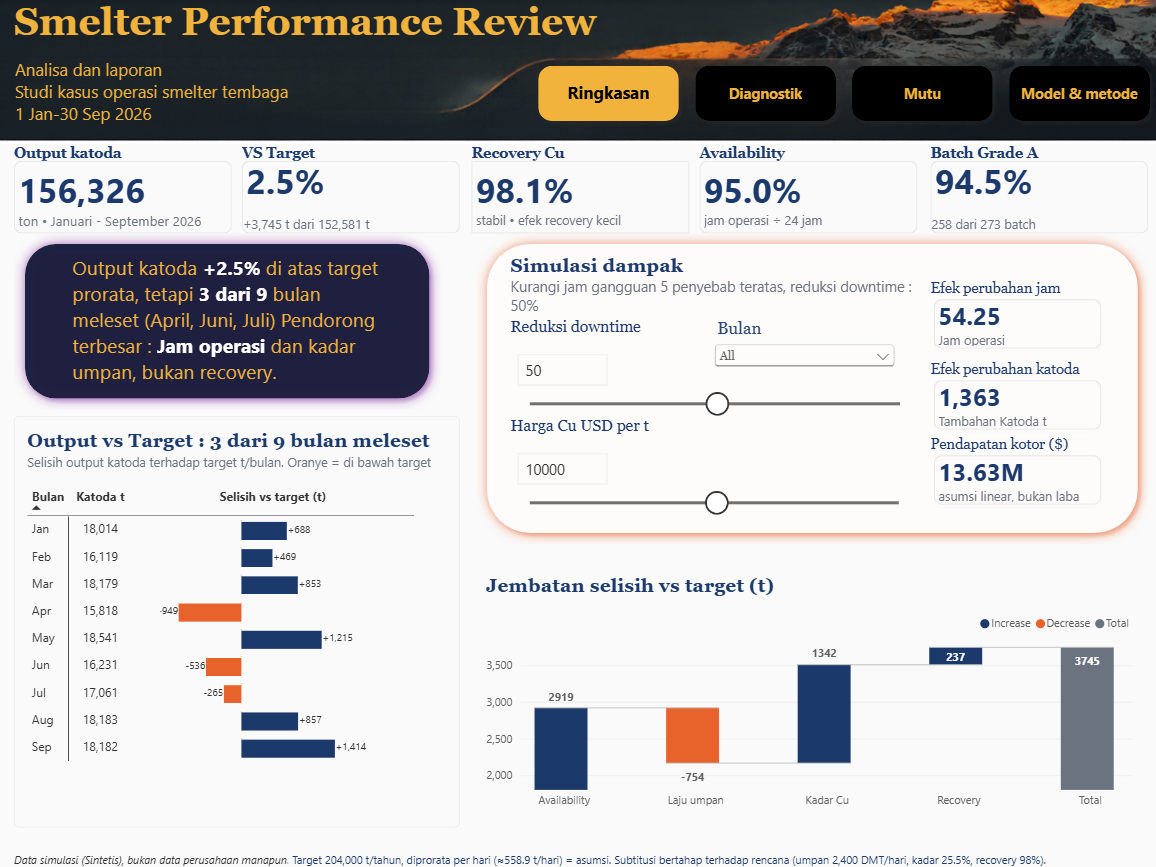

The dashboard page shown, as its layout file describes it:
{"tool":"powerbi","page":{"name":"Ringkasan","canvas":[1280,960],"ordinal":0},"visuals":[{"type":"textbox","title":"text box judul","box":[16,0,672,64],"z":0,"group":"g1"},{"type":"shape","box":[525.7,258.1,741.4,342.8],"z":0},{"type":"textbox","title":"Text box subjudul","box":[16,64,320,96],"z":1000,"group":"g1"},{"type":"slicer","title":"Reduksi downtime","fields":{"Values":["Reduksi Downtime.Reduksi Downtime"]},"box":[563.8,350.5,448,109.1],"z":1000},{"type":"cardVisual","title":"Output katoda","fields":{"Data":["Data_Harian.Katoda t"]},"box":[16,160,240,98],"z":2000},{"type":"slicer","title":"Harga Cu USD per t","fields":{"Values":["Harga Cu USD per t.Harga Cu USD per t"]},"box":[564.3,460.3,446.8,115.5],"z":3000},{"type":"image","box":[0,0,1280,160],"z":4000},{"type":"pageNavigator","title":"page halaman","box":[585.3,64.5,692.7,79.4],"z":4000,"group":"g3"},{"type":"textbox","title":"Text box bawah","box":[16.5,939.1,1248.2,21.5],"z":5000},{"type":"cardVisual","title":"VS Target","fields":{"Data":["Data_Harian.Selisih vs Target %"]},"box":[267.8,160,240,98],"z":6000},{"type":"cardVisual","title":"Recovery Cu","fields":{"Data":["Data_Harian.Recovery %"]},"box":[520.8,160,240,98],"z":7000},{"type":"cardVisual","title":"Availability","fields":{"Data":["Data_Harian.Availability %"]},"box":[772.1,160,240,98],"z":8000},{"type":"cardVisual","title":"Batch Grade A","fields":{"Data":["Data_Harian.Grade A %"]},"box":[1026.7,160,240,98],"z":9000},{"type":"cardVisual","title":"Efek perubahan jam","fields":{"Data":["_Ukuran.Jam Dikurangi"]},"box":[1026.7,310,192,80],"z":10000},{"type":"cardVisual","title":"Efek perubahan katoda","fields":{"Data":["_Ukuran.Tambahan Katoda t"]},"box":[1026.7,399,192,80],"z":11000},{"type":"pivotTable","title":"Output vs Target : 3 dari 9 bulan meleset","fields":{"Rows":["Dim_Tanggal.Nama_Bulan"],"Values":["Data_Harian.Katoda t","Data_Harian.Bar Selisih SVG"]},"box":[16.5,459.6,491,453],"z":12000},{"type":"cardVisual","title":"Pendapatan kotor ($)","fields":{"Data":["_Ukuran.Nilai Tambahan USD"]},"box":[1026.7,481,192,80],"z":13000},{"type":"group","id":"g1","title":"judul sub judul","box":[16,0,672,160],"z":14000,"group":"g3"},{"type":"textbox","box":[564.3,281.2,446.8,69.3],"z":14000},{"type":"waterfallChart","title":"Jembatan selisih vs target (t)","fields":{"Category":["Bridge.Langkah"],"Y":["_Ukuran.Nilai Bridge"]},"box":[520,620.1,745.3,292.7],"z":15000},{"type":"group","id":"g2","title":"Group 1","box":[17.3,258.1,469.9,194.5],"z":16000},{"type":"shape","box":[17.3,258.1,469.9,194.5],"z":16000,"group":"g2"},{"type":"group","id":"g3","title":"Group 2","box":[16,0,1262,160],"z":17000},{"type":"slicer","title":"bulan","fields":{"Values":["Dim_Tanggal.Bulan"]},"box":[784,352,208,64],"z":17001},{"type":"textbox","box":[81.9,281.5,344.9,151.3],"z":18000,"group":"g2"}]}

Visuals, with their boxes in screenshot pixels (x1, y1, x2, y2), scaled from the page's 1280x960 canvas onto the 1156x867 screenshot:
"text box judul" textbox: (14, 0, 621, 58)
shape: (475, 233, 1144, 543)
"Text box subjudul" textbox: (14, 58, 303, 144)
"Reduksi downtime" slicer: (509, 317, 914, 415)
"Output katoda" cardVisual: (14, 144, 231, 233)
"Harga Cu USD per t" slicer: (510, 416, 913, 520)
image: (0, 0, 1155, 144)
"page halaman" pageNavigator: (529, 58, 1154, 130)
"Text box bawah" textbox: (15, 848, 1142, 866)
"VS Target" cardVisual: (242, 144, 459, 233)
"Recovery Cu" cardVisual: (470, 144, 687, 233)
"Availability" cardVisual: (697, 144, 914, 233)
"Batch Grade A" cardVisual: (927, 144, 1144, 233)
"Efek perubahan jam" cardVisual: (927, 280, 1101, 352)
"Efek perubahan katoda" cardVisual: (927, 360, 1101, 433)
"Output vs Target : 3 dari 9 bulan meleset" pivotTable: (15, 415, 458, 824)
"Pendapatan kotor ($)" cardVisual: (927, 434, 1101, 507)
"judul sub judul" group: (14, 0, 621, 144)
textbox: (510, 254, 913, 317)
"Jembatan selisih vs target (t)" waterfallChart: (470, 560, 1143, 824)
"Group 1" group: (16, 233, 440, 409)
shape: (16, 233, 440, 409)
"Group 2" group: (14, 0, 1154, 144)
"bulan" slicer: (708, 318, 896, 376)
textbox: (74, 254, 385, 391)
